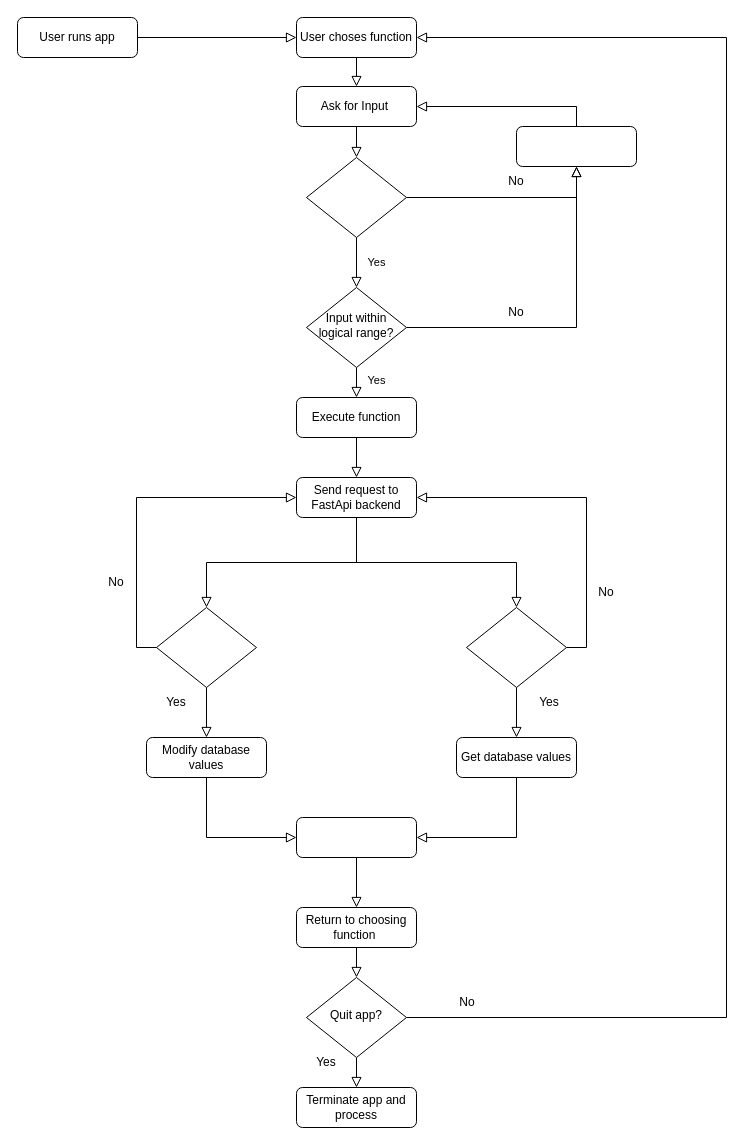
The diagram is 754 pixels wide and 1145 high, and some of its shapes have lost their labels. Each missing label, with the box of its shape:
Display output: (296, 816, 416, 858)
Get request?: (466, 606, 566, 688)
post request?: (156, 606, 256, 688)
Pydantic Validation success?: (306, 156, 406, 238)
Show Validation warning: (516, 126, 636, 166)
